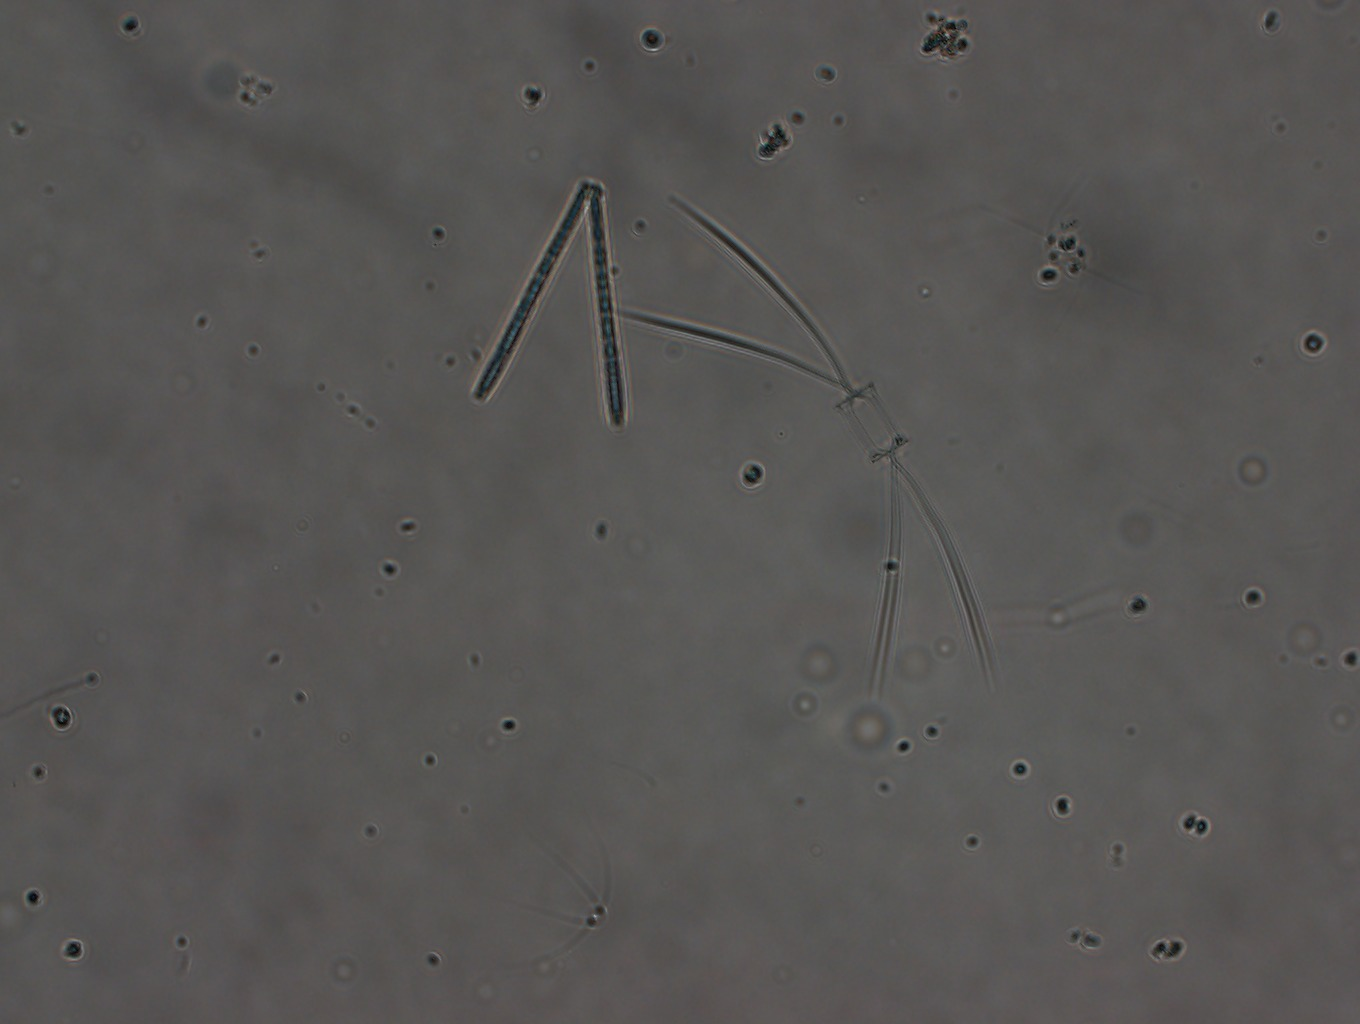chaetoceros: (603, 187, 994, 701), (967, 175, 1142, 325)
thalassionema nitzschioides: (461, 163, 642, 426)
